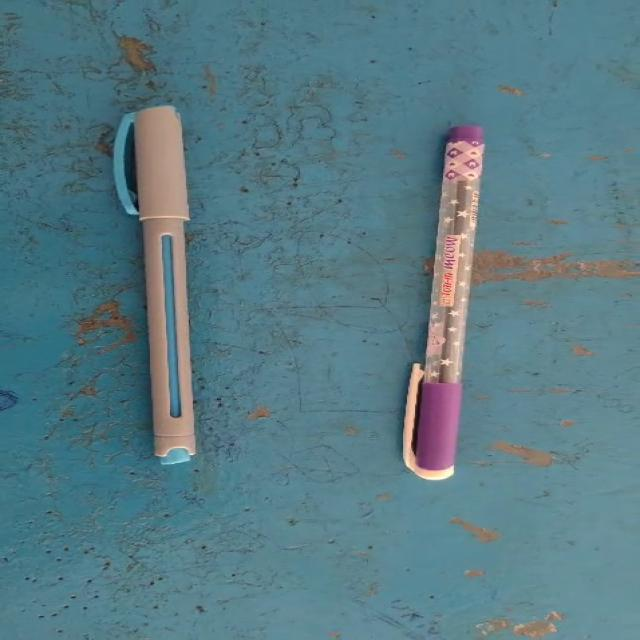pen: (0, 0, 264, 510), (371, 109, 528, 514)
